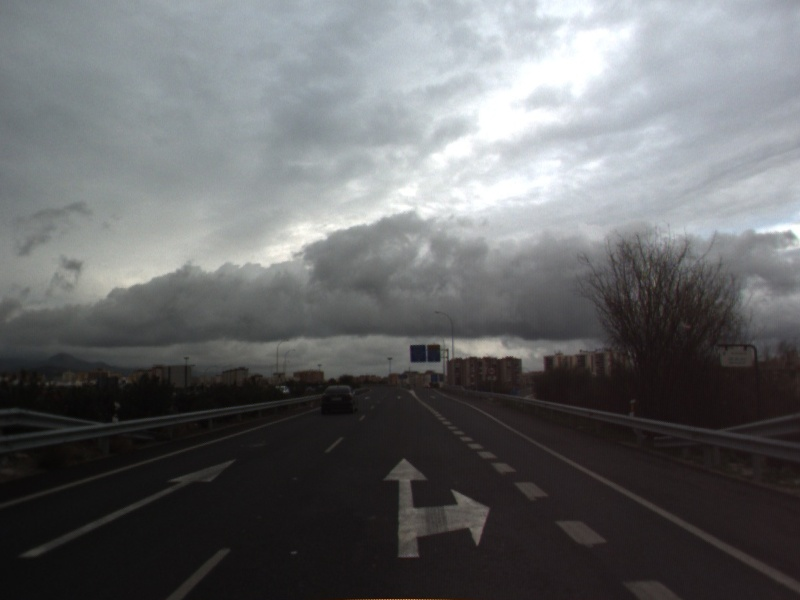STRAIGHT: (15, 456, 239, 559)
STRAIGHT_RIGHT: (380, 455, 493, 560)
